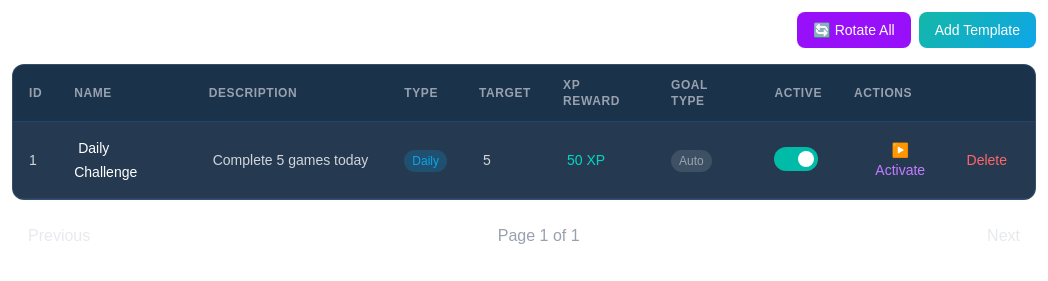
Test: ChallengeTemplatesTable › delete template › delete handles 409 conflict
The width and height of the screenshot is (1048, 281).
Expected: the text "Daily Challenge" is shown, [74,140,141,180]
Click the button "Delete".
click(987, 160)  # box [954,134,1019,186]
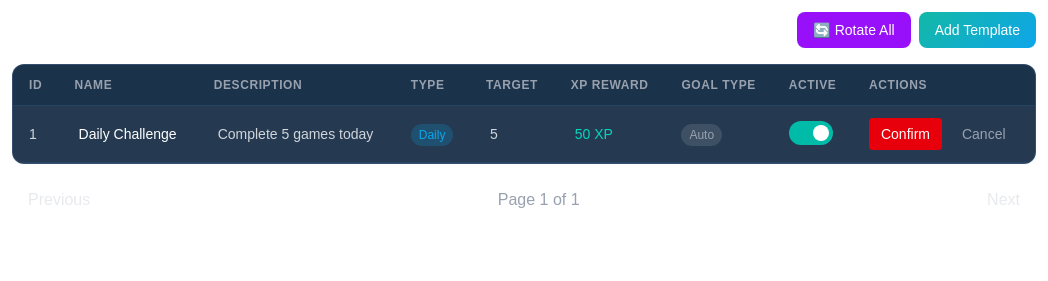
Expected: the button "Confirm" is shown
Click the button "Confirm".
click(906, 134)  # box [869,118,942,150]
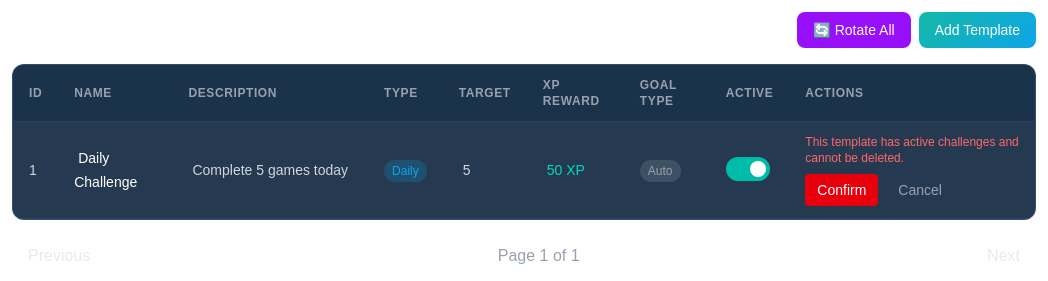
Expected: the text "This template has active challenges and cannot be deleted." is shown, [805,134,1019,166]
